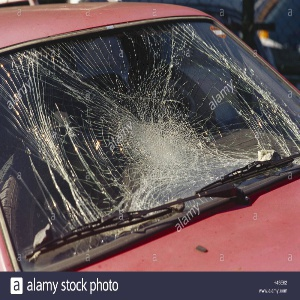front_windshield_glass: (19, 51, 209, 194)
